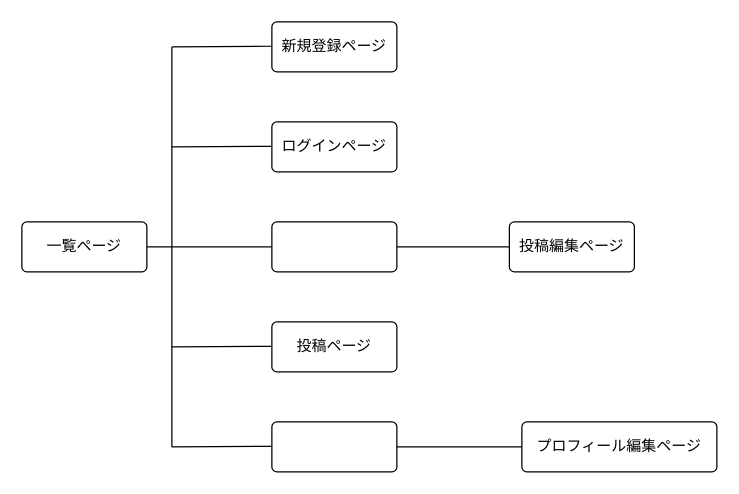
Image size: 739x494. Some labels were removed from this diagram. Here are the shapes that lost their labels. From the top down, the box of each, then its label:
(271, 221, 397, 272): 詳細ページ
(271, 421, 397, 472): マイページ
